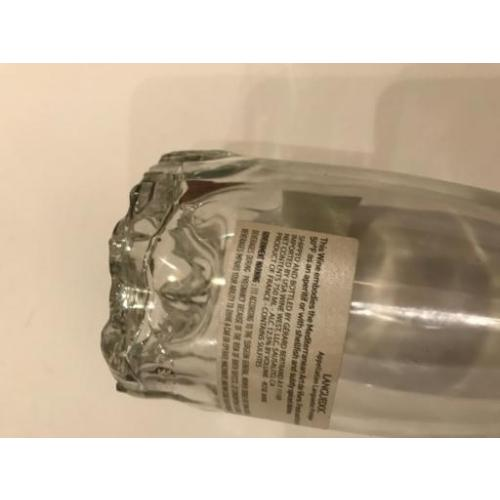glass: (104, 146, 500, 437)
